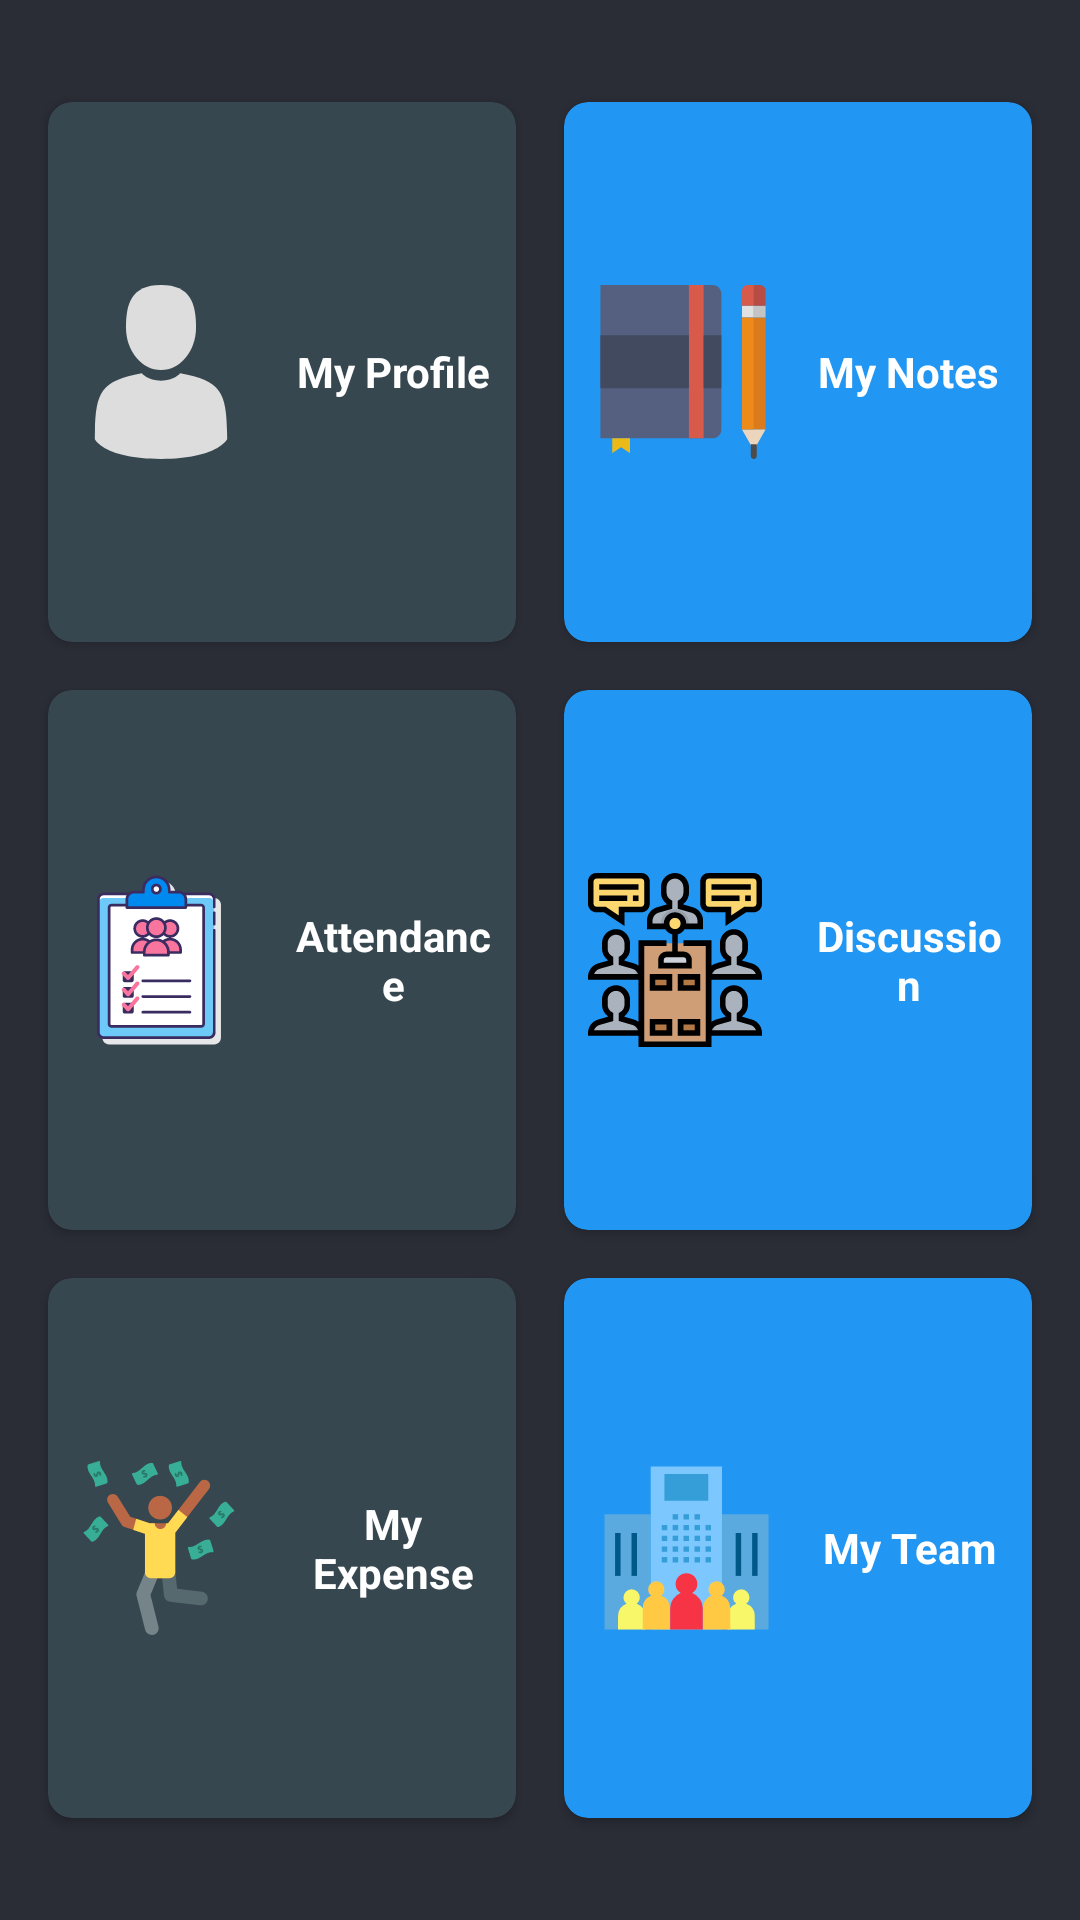

Named icons in this screenshot (1080px×1920px) and their bounding boxes, [x1, y1, x2, y2]:
notebook: [600, 285, 766, 459]
